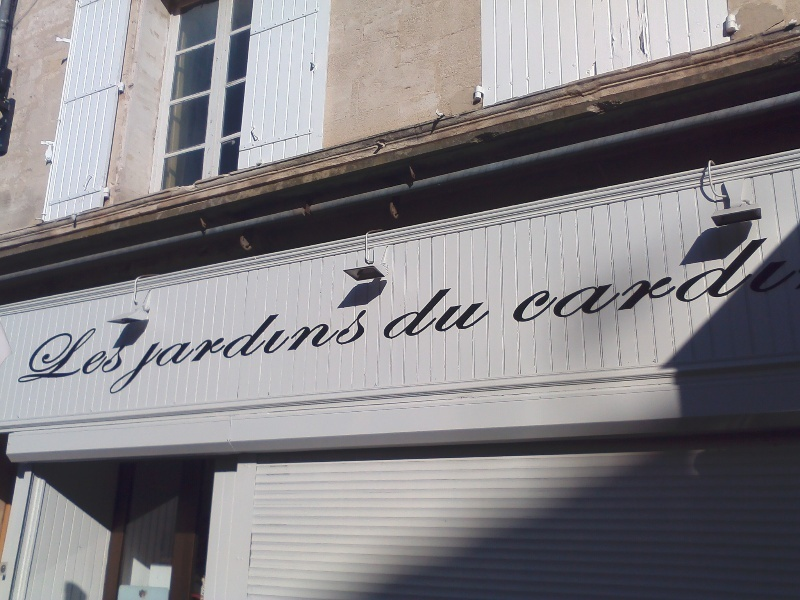text: (161, 303, 176, 396), (177, 303, 192, 396), (193, 303, 208, 396), (209, 303, 224, 396), (225, 303, 240, 396), (241, 303, 256, 396), (257, 303, 272, 396), (273, 303, 288, 396), (289, 303, 304, 396), (305, 303, 320, 396), (321, 303, 336, 396), (337, 303, 352, 396), (353, 303, 368, 396), (529, 234, 544, 324), (545, 234, 560, 324), (561, 234, 576, 324), (577, 234, 592, 324), (593, 234, 608, 324), (609, 234, 624, 324), (625, 234, 640, 324), (641, 234, 656, 324), (657, 234, 672, 324), (673, 234, 688, 324), (689, 234, 704, 324), (705, 234, 720, 324), (721, 234, 736, 324), (737, 234, 752, 324), (753, 234, 768, 324), (769, 234, 784, 324), (785, 234, 800, 324), (49, 323, 64, 384), (65, 323, 80, 384), (81, 323, 96, 384), (97, 323, 112, 384), (113, 323, 128, 384), (401, 283, 416, 341), (417, 283, 432, 341), (433, 283, 448, 341), (449, 283, 464, 341), (465, 283, 480, 341), (481, 283, 496, 341), (519, 234, 528, 324), (40, 323, 48, 384), (394, 283, 400, 341), (157, 303, 160, 396), (369, 303, 372, 396), (129, 323, 133, 384), (497, 283, 498, 341)
